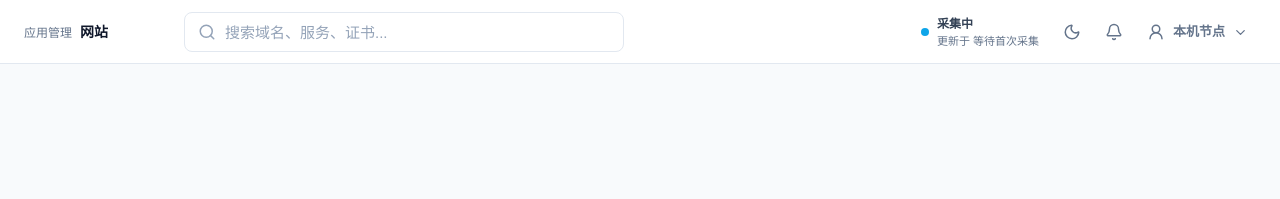
Test: theme provider › filters protected global-search destinations by permission
Type "部署站点" into the dropdown named "全局搜索".
click(404, 32); type("部署站点")  # box [184, 12, 624, 52]
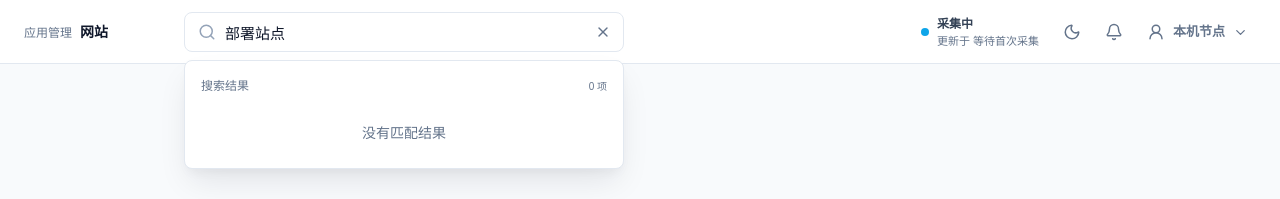
expect the text "没有匹配结果" is shown: met, box [362, 125, 446, 141]
